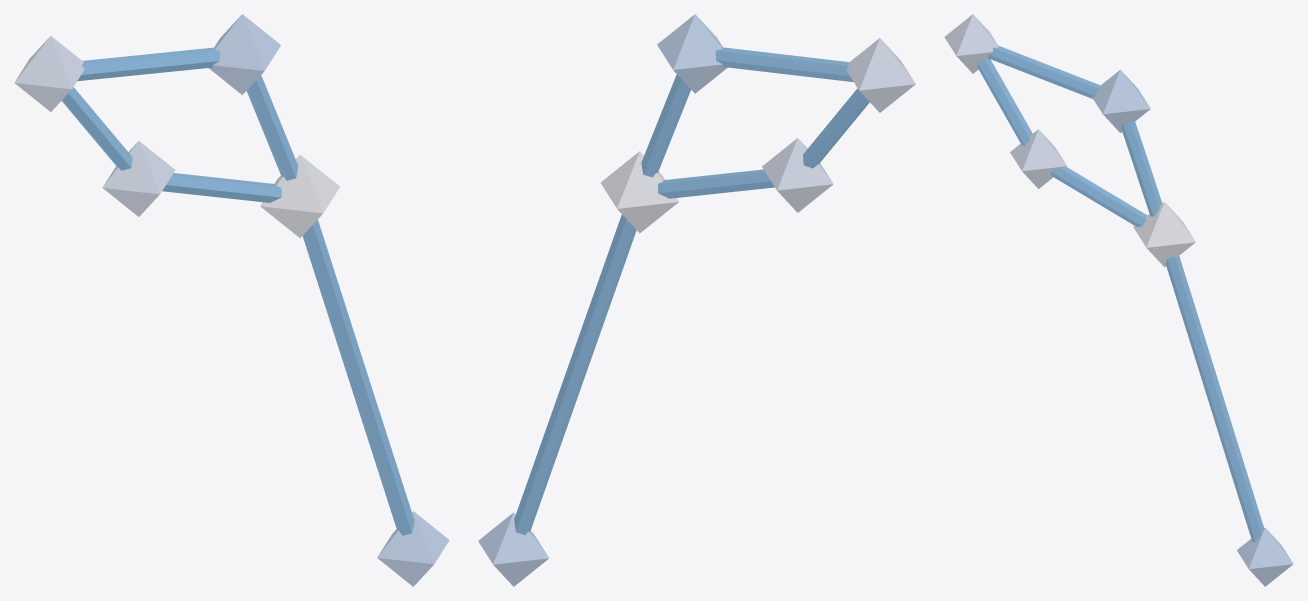
The model's file is constellation-del.glb.
The picture shows the model from 3 angles, left to right: view 1: azimuth 30°, elevation 25°; view 2: azimuth 150°, elevation 25°; view 3: azimuth 330°, elevation 25°; orthographic projection. The views are drawn at different scales.
Bounding box in the file's own units: 0.4092 × 0.5723 × 0.0831.
